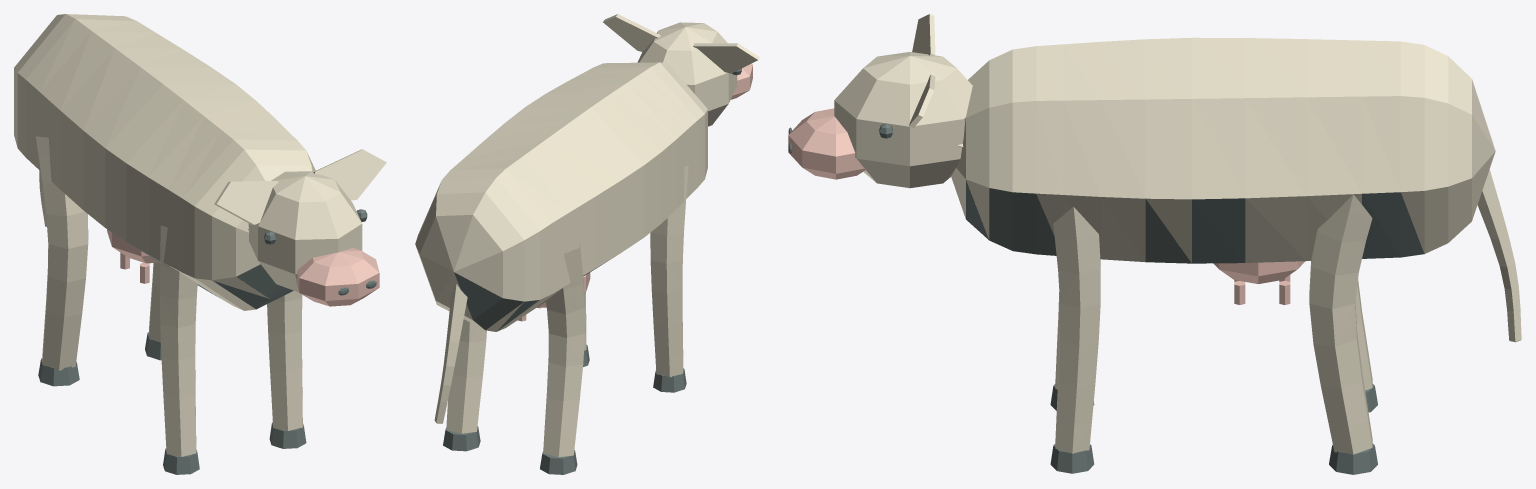
Rendered from cow.glb.
The picture shows the model from 3 angles, left to right: view 1: azimuth 30°, elevation 25°; view 2: azimuth 150°, elevation 25°; view 3: azimuth 270°, elevation 25°; orthographic projection. The views are drawn at different scales.
Visible parts, largest first — view 1: dairy-cow; view 2: dairy-cow; view 3: dairy-cow.
Part boxes in pixels (x1=…): dairy-cow: x1=14, y1=14, x2=386, y2=474; dairy-cow: x1=415, y1=14, x2=759, y2=474; dairy-cow: x1=788, y1=14, x2=1521, y2=474.
Size of the model in its own units: 0.8583 by 1.61 by 2.77.
